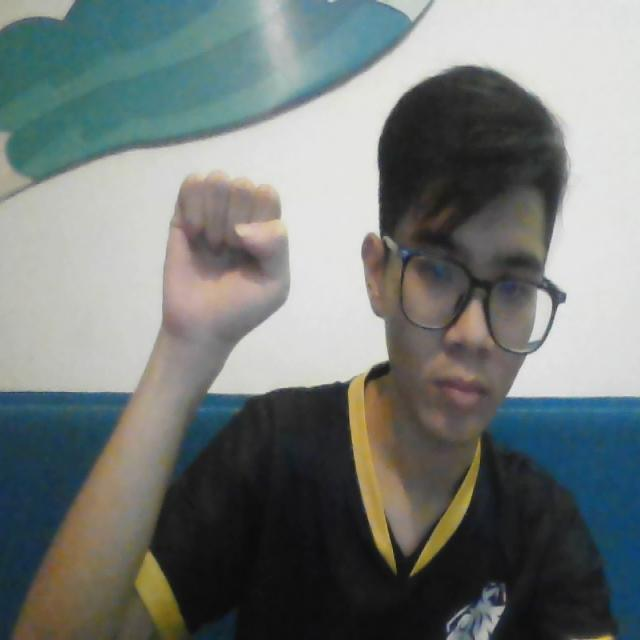E: (162, 159, 297, 330)
